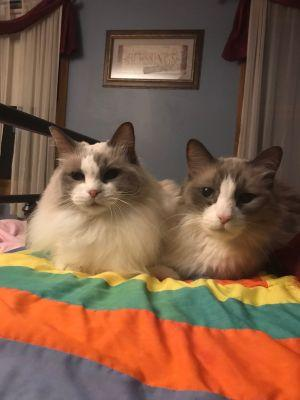ragdoll: (48, 121, 141, 221)
